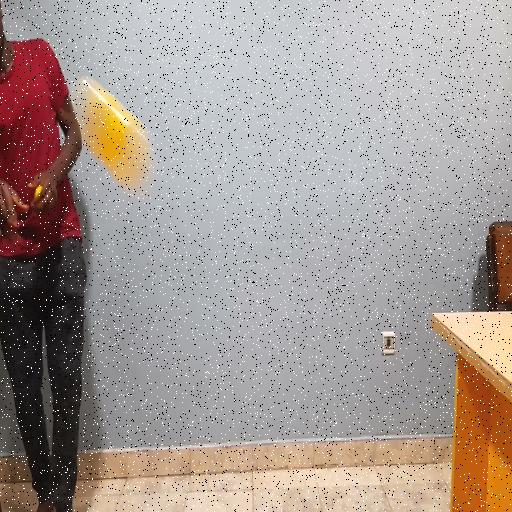plastic-ball: (73, 77, 152, 189)
